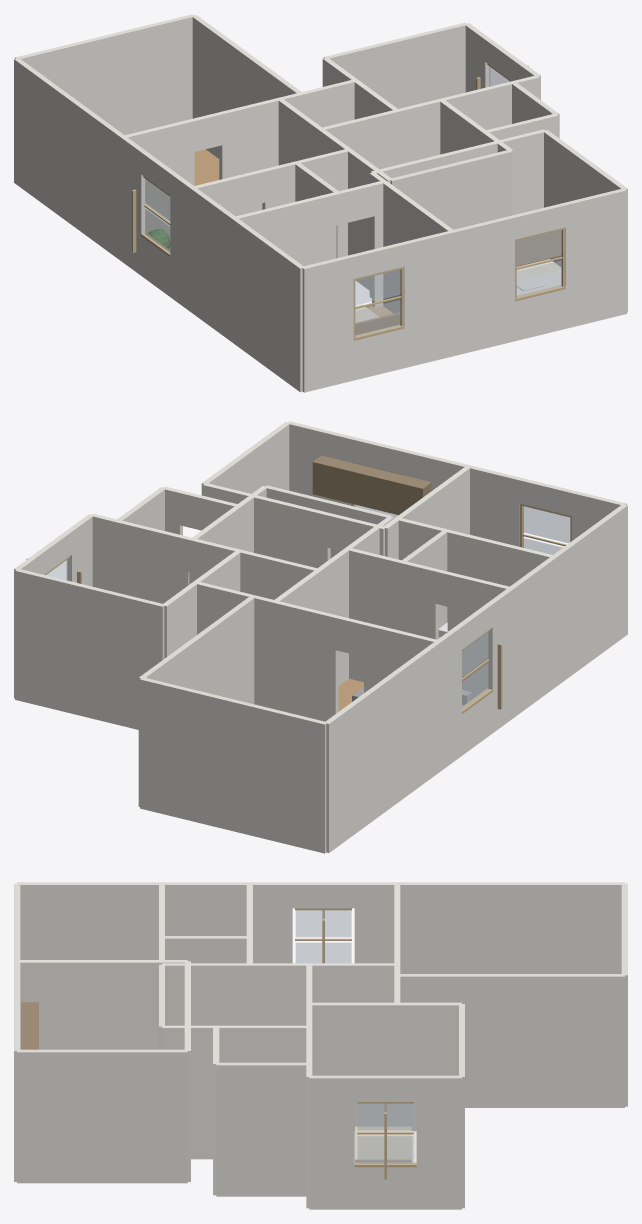
File: test-clean.glb
3 views of the same model, one above another, from view 1: azimuth 30°, elevation 25°; view 2: azimuth 150°, elevation 25°; view 3: azimuth 270°, elevation 25° (orthographic). The views are drawn at different scales.
Parts seen in each view (by area): view 1: Wall_kitchen_front, Wall_bedroom_1_front, Wall_balcony_left, Wall_balcony_back, Wall_bedroom_1_left, Wall_bedroom_2_back, Wall_living_room_left, Wall_bedroom_1_back, Wall_stairs_front, Wall_balcony_front, Wall_balcony_right, Wall_bathroom_1_left (+31 smaller); view 2: Wall_balcony_back, Wall_bedroom_2_back, Wall_balcony_left, Wall_living_room_back, Wall_bedroom_1_left, Wall_living_room_left, Wall_bedroom_2_front, Wall_balcony_right, Wall_living_room_front, Wall_kitchen_back, Wall_bedroom_1_front, Wall_bathroom_1_left (+25 smaller); view 3: Wall_balcony_right, Wall_kitchen_right, Wall_balcony_left, Wall_bedroom_2_right, Wall_bathroom_2_right, Wall_kitchen_left, Wall_bedroom_1_left, Wall_bedroom_2_left, Wall_living_room_left, Wall_hallway_right, Wall_stairs_right, Wall_living_room_right (+20 smaller).
Boxes of the visible parts, left/top/right/bottom form: Wall_kitchen_front: left=453, top=188, right=626, bottom=355; Wall_bedroom_1_front: left=302, top=231, right=453, bottom=392; Wall_balcony_left: left=14, top=58, right=124, bottom=260; Wall_balcony_back: left=15, top=14, right=194, bottom=134; Wall_bedroom_1_left: left=232, top=217, right=304, bottom=392; Wall_bedroom_2_back: left=323, top=22, right=467, bottom=108; Wall_living_room_left: left=121, top=136, right=193, bottom=311; Wall_bedroom_1_back: left=234, top=180, right=384, bottom=307; Wall_stairs_front: left=390, top=150, right=512, bottom=229; Wall_balcony_front: left=124, top=95, right=302, bottom=249; Wall_balcony_right: left=192, top=15, right=301, bottom=158; Wall_bathroom_1_left: left=190, top=187, right=235, bottom=341; Wall_balcony_back: left=140, top=678, right=326, bottom=853; Wall_bedroom_2_back: left=15, top=569, right=164, bottom=729; Wall_balcony_left: left=324, top=641, right=440, bottom=852; Wall_living_room_back: left=273, top=600, right=439, bottom=721; Wall_bedroom_1_left: left=553, top=504, right=627, bottom=686; Wall_living_room_left: left=437, top=588, right=513, bottom=770; Wall_bedroom_2_front: left=91, top=513, right=240, bottom=603; Wall_balcony_right: left=138, top=596, right=254, bottom=806; Wall_living_room_front: left=349, top=548, right=510, bottom=699; Wall_kitchen_back: left=202, top=483, right=386, bottom=568; Wall_bedroom_1_front: left=468, top=465, right=626, bottom=546; Wall_bathroom_1_left: left=510, top=556, right=556, bottom=717; Wall_balcony_right: left=397, top=974, right=624, bottom=1107; Wall_kitchen_right: left=17, top=1049, right=187, bottom=1183; Wall_balcony_left: left=397, top=882, right=624, bottom=973; Wall_bedroom_2_right: left=309, top=1075, right=461, bottom=1209; Wall_bathroom_2_right: left=216, top=1062, right=309, bottom=1196; Wall_kitchen_left: left=17, top=960, right=187, bottom=1049; Wall_bedroom_1_left: left=17, top=882, right=161, bottom=959; Wall_bedroom_2_left: left=312, top=1002, right=461, bottom=1131; Wall_living_room_left: left=250, top=882, right=397, bottom=963; Wall_hallway_right: left=312, top=1002, right=397, bottom=1130; Wall_stairs_right: left=162, top=1025, right=309, bottom=1159; Wall_living_room_right: left=250, top=963, right=394, bottom=1025.
Bounding box in the file's own units: 10.08 × 2.8 × 11.87.
